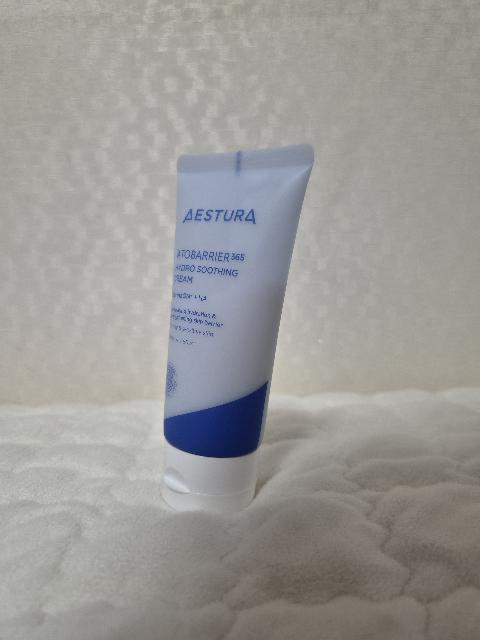handcream: (161, 143, 315, 516)
